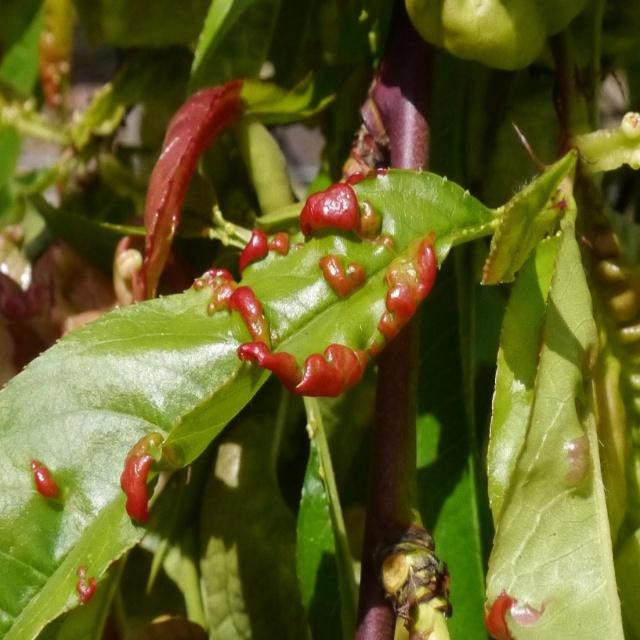leaf_curl: (0, 244, 284, 639), (185, 145, 455, 421)
